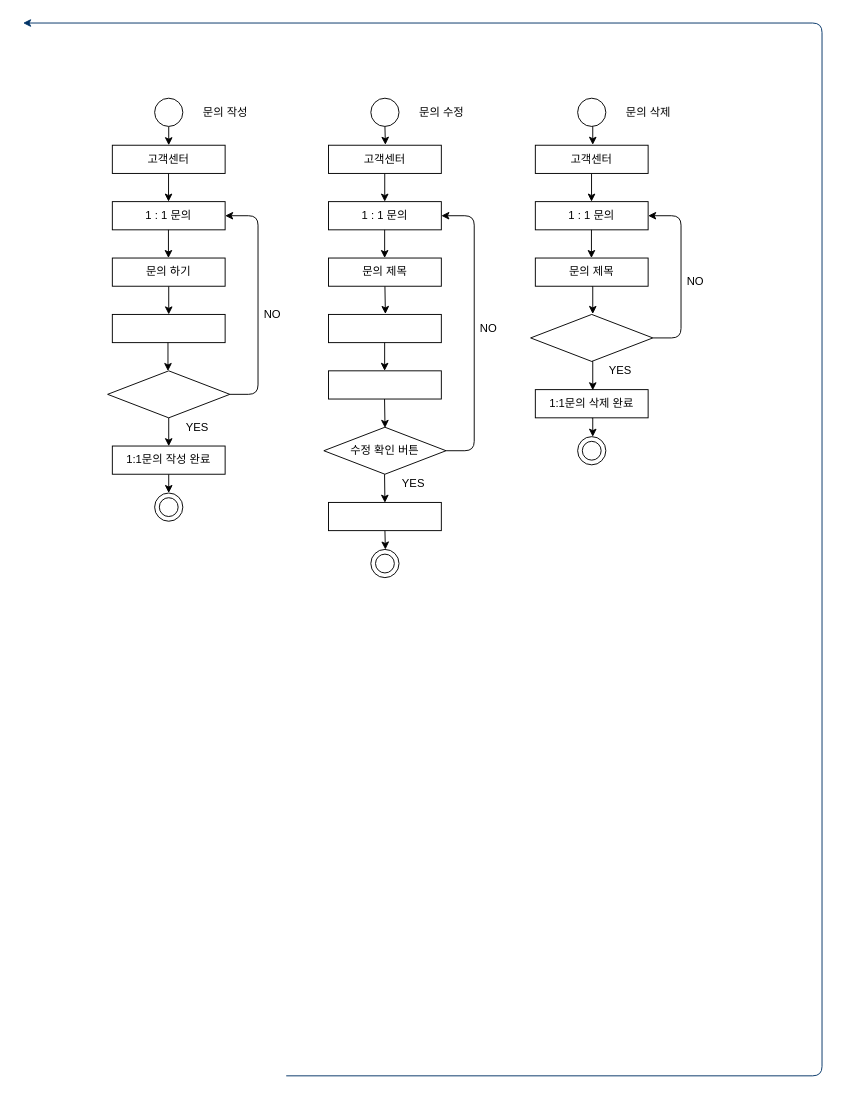
This 846x1100 diagram has some shape labels left out. Here are the shapes that lost their labels. From the top down, the centre of each, then its label:
At (168,328): "1:1문의 작성".
At (384,328): "수정 버튼".
At (591,337): "삭제 버튼".
At (168,394): "작성 버튼".
At (384,384): "수정 내용 작성".
At (384,516): "1 :1문의 수정 완료".
